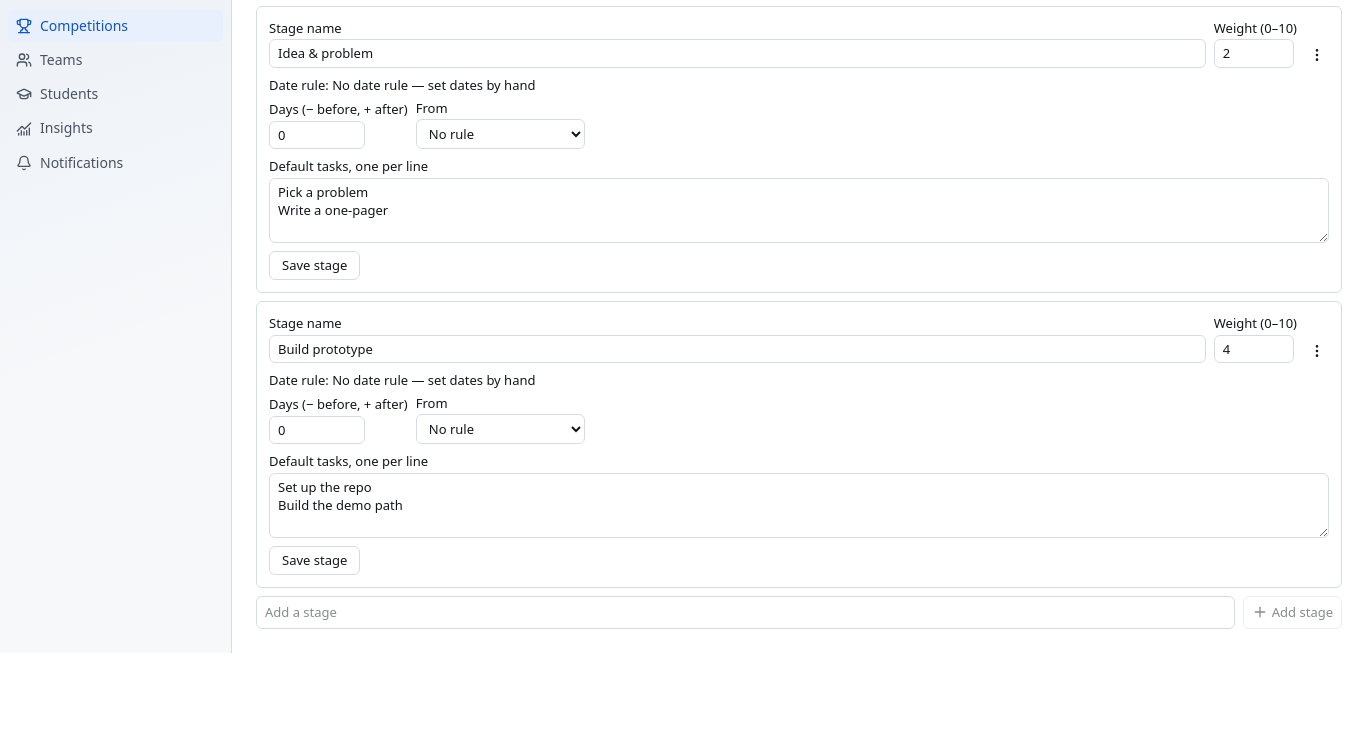
Test: the template editor › moves a stage from its menu and removes one after confirming
(page scrolled)
Click the button named "Actions for Build prototype".
click(1317, 350)  # box [1305,338,1329,362]
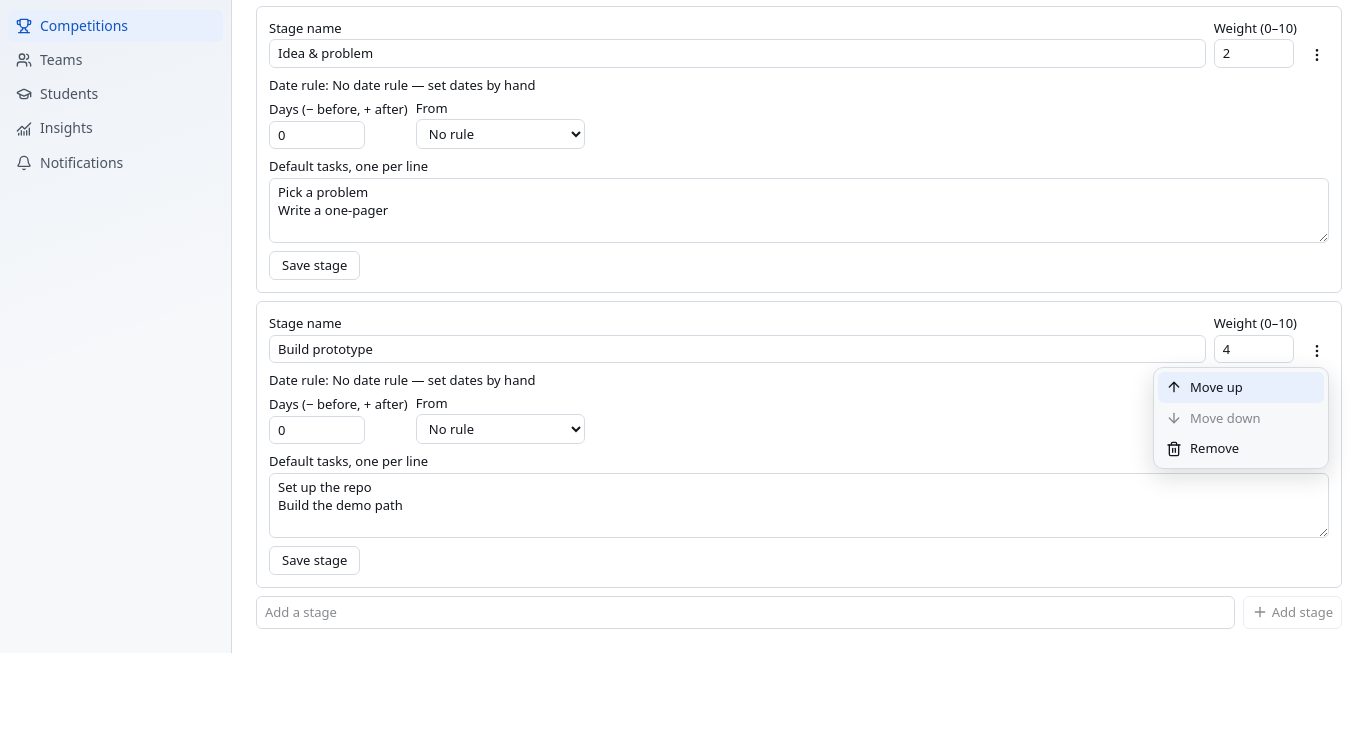
Click the menu item "Move up".
click(1241, 387)  # box [1158,372,1324,403]
(page scrolled)
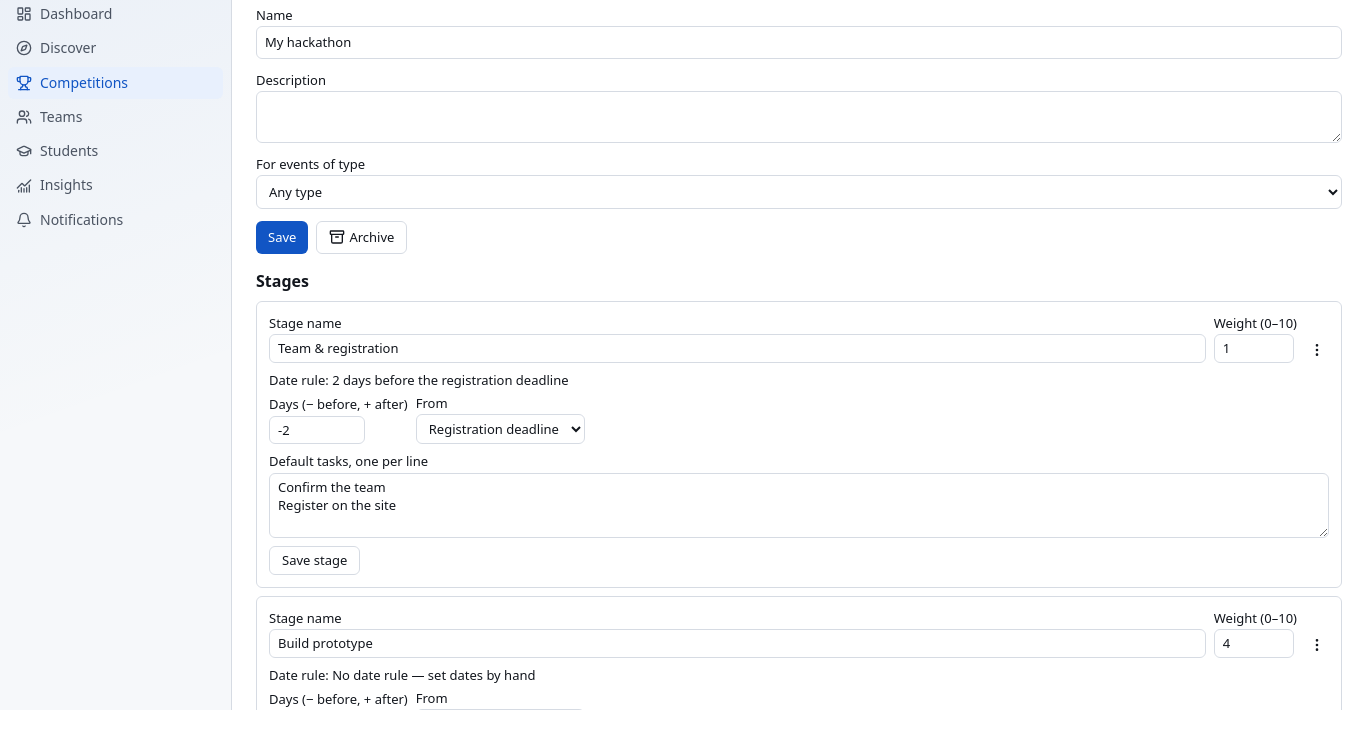
Click the button named "Actions for Team & registration".
click(1317, 350)  # box [1305,338,1329,362]
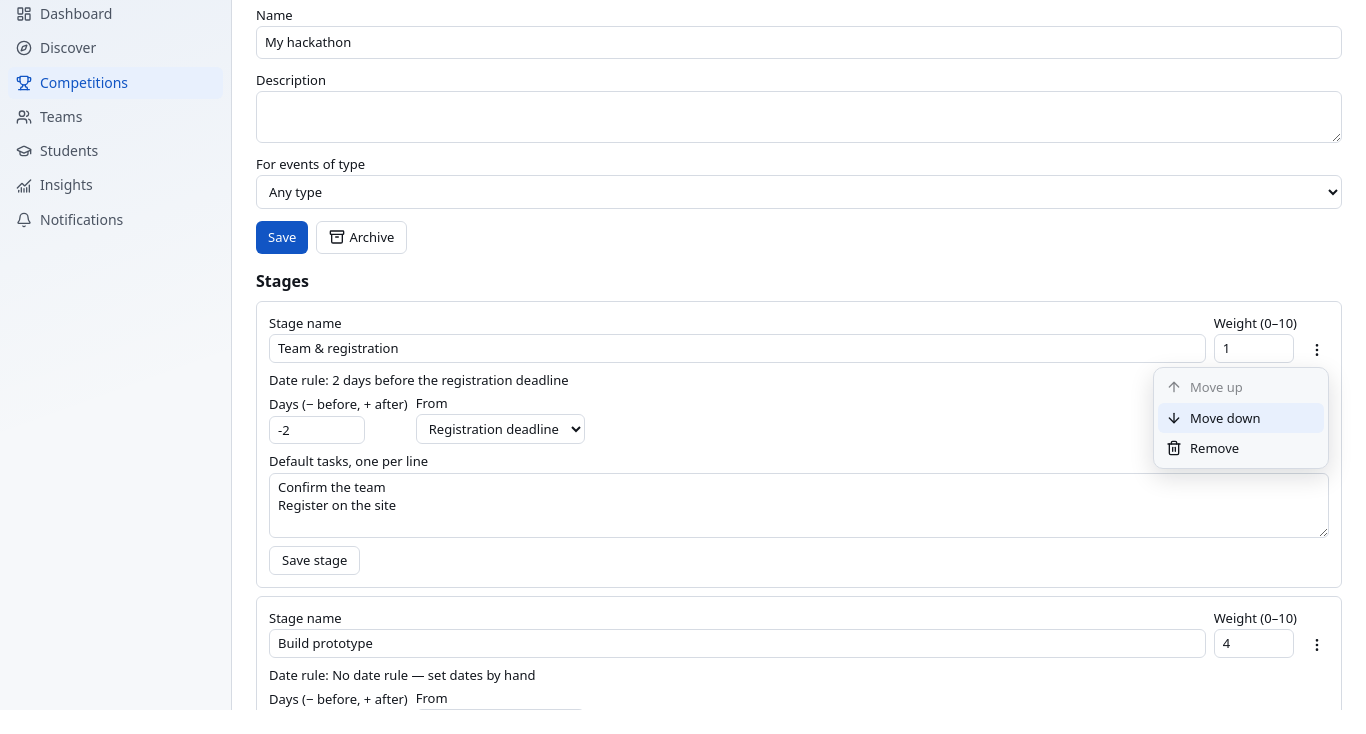
Click the menu item "Remove".
click(1241, 448)  # box [1158,433,1324,464]
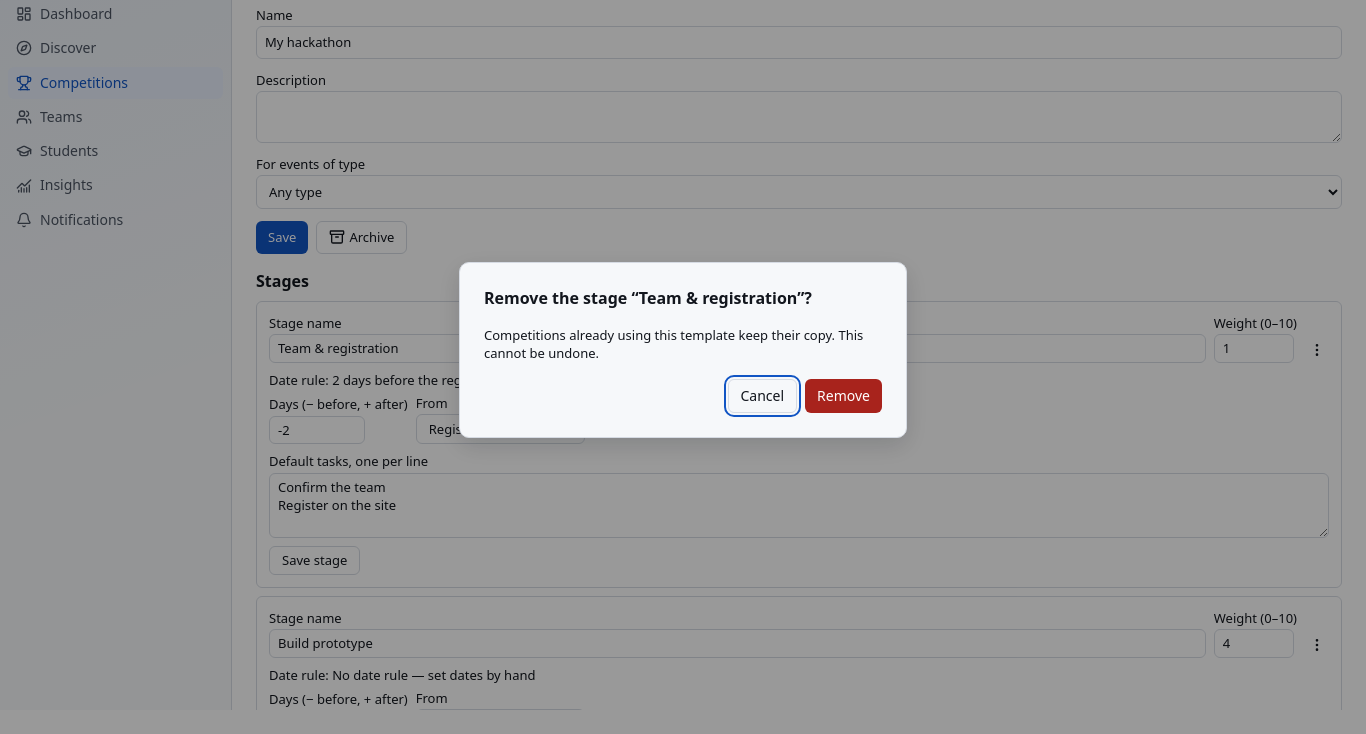
Click the button "Remove".
click(844, 396)  # box [805,379,882,413]
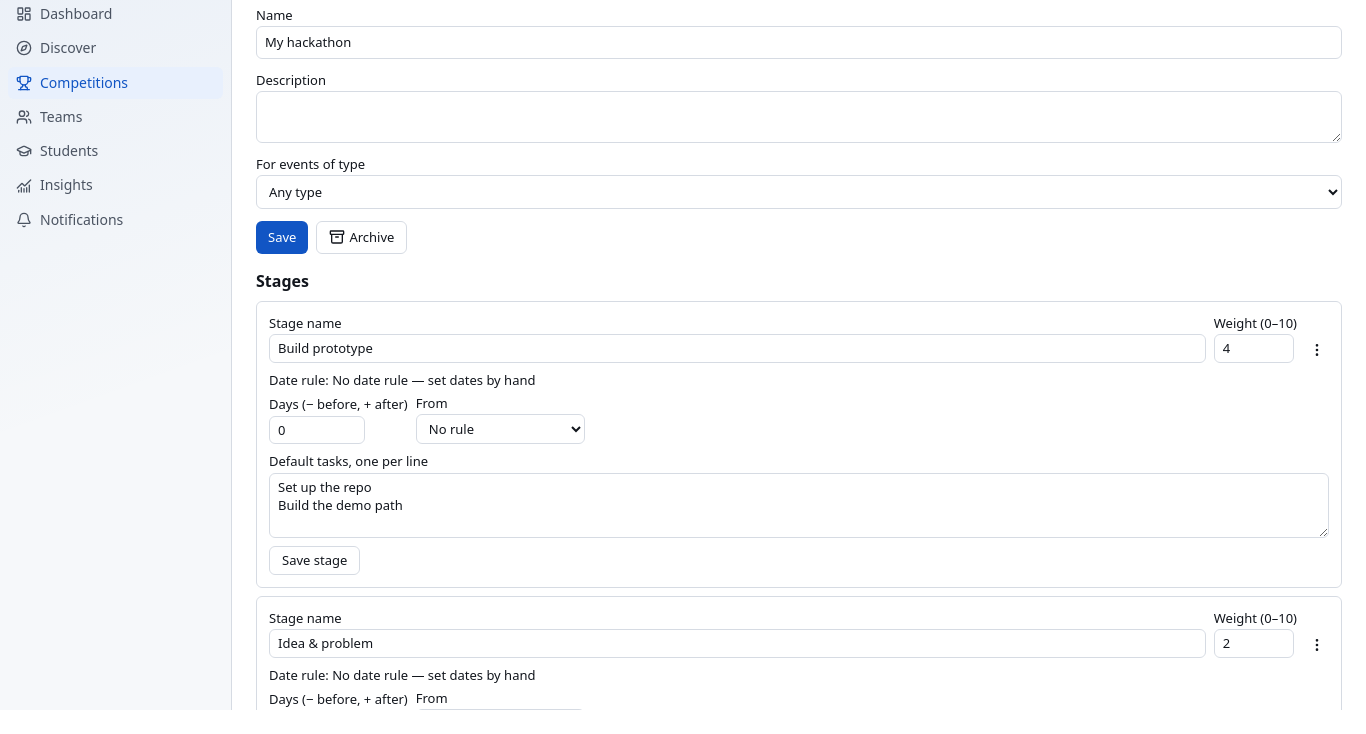
Check: the number of fields labelled "Stage name" is 2, box [269,334,1206,363]; [269,630,1206,658]
